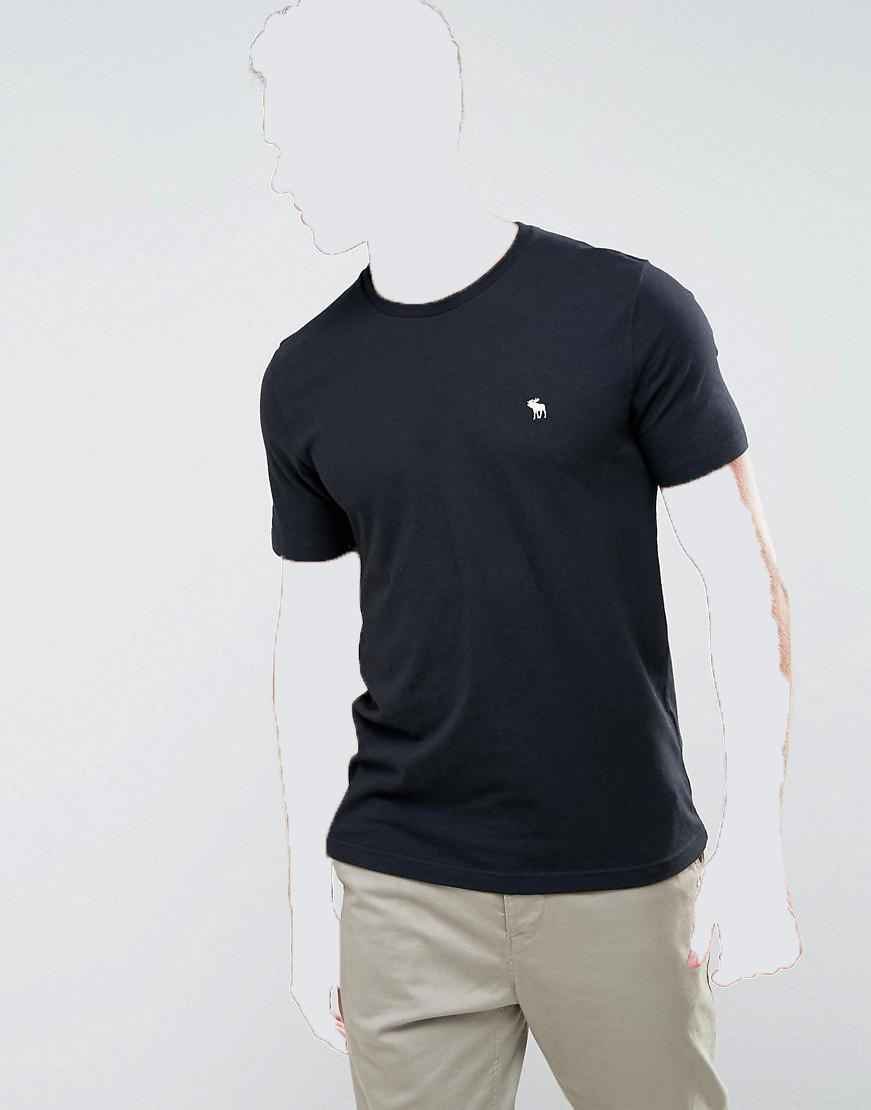teeshirt: (239, 229, 803, 890)
